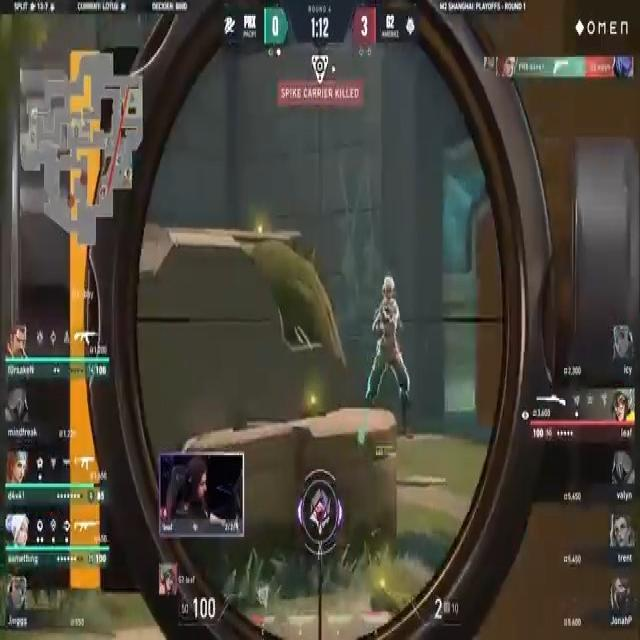ally: (360, 276, 423, 432)
